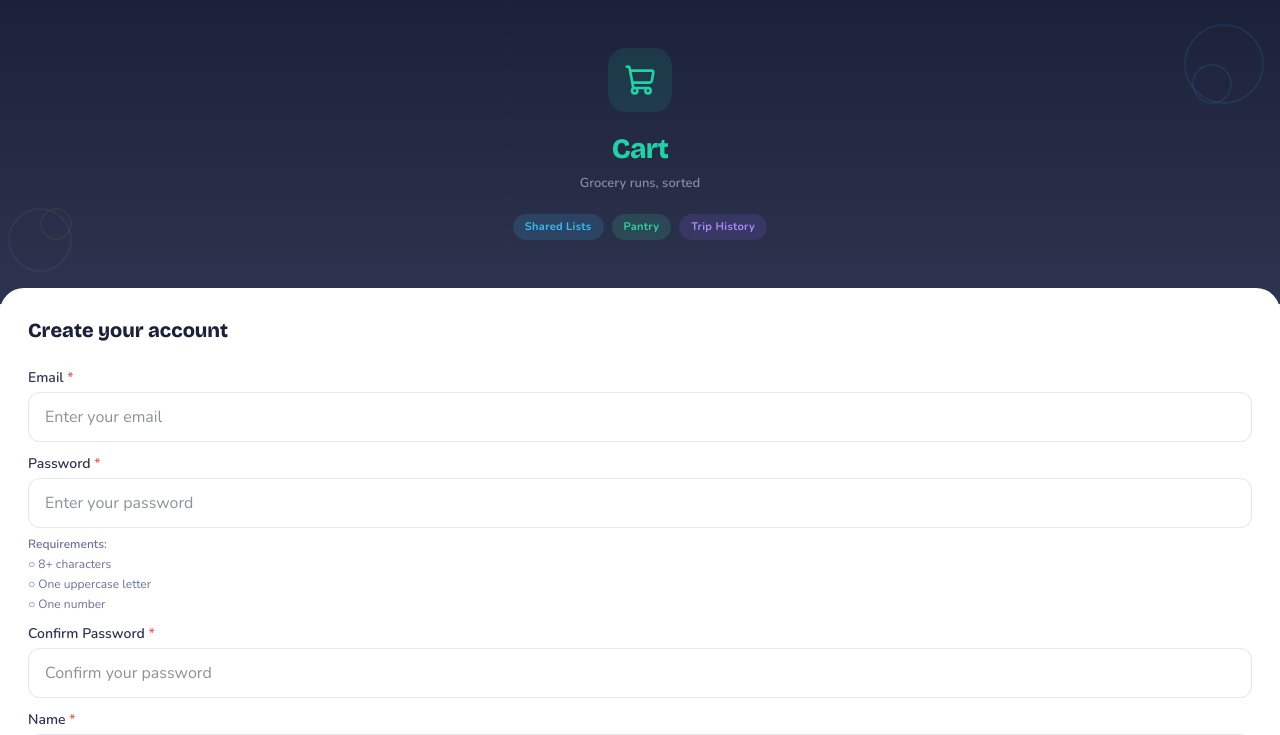
RegisterPage › validates password has uppercase
In the password field labelled "Password": x=640, y=503 28,478 -> 1252,528, type "lowercase123"
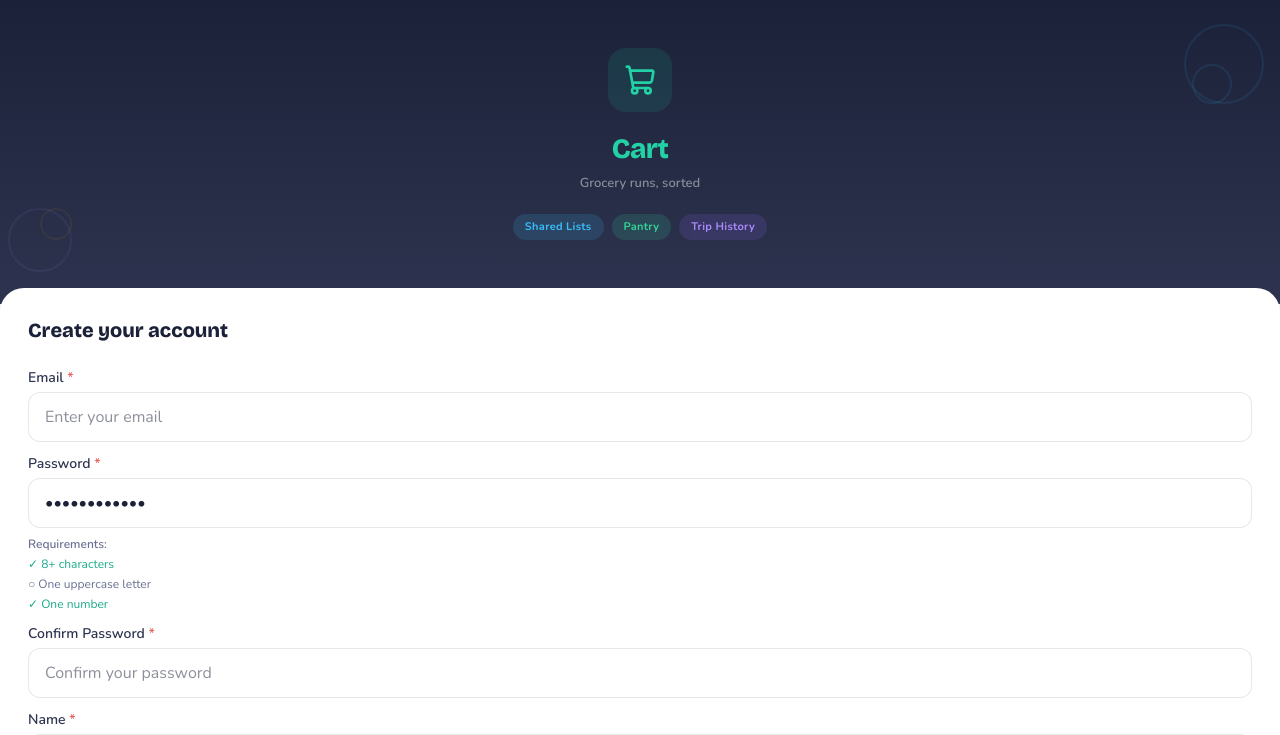
Leave the password field labelled "Password", box 28,478 -> 1252,528
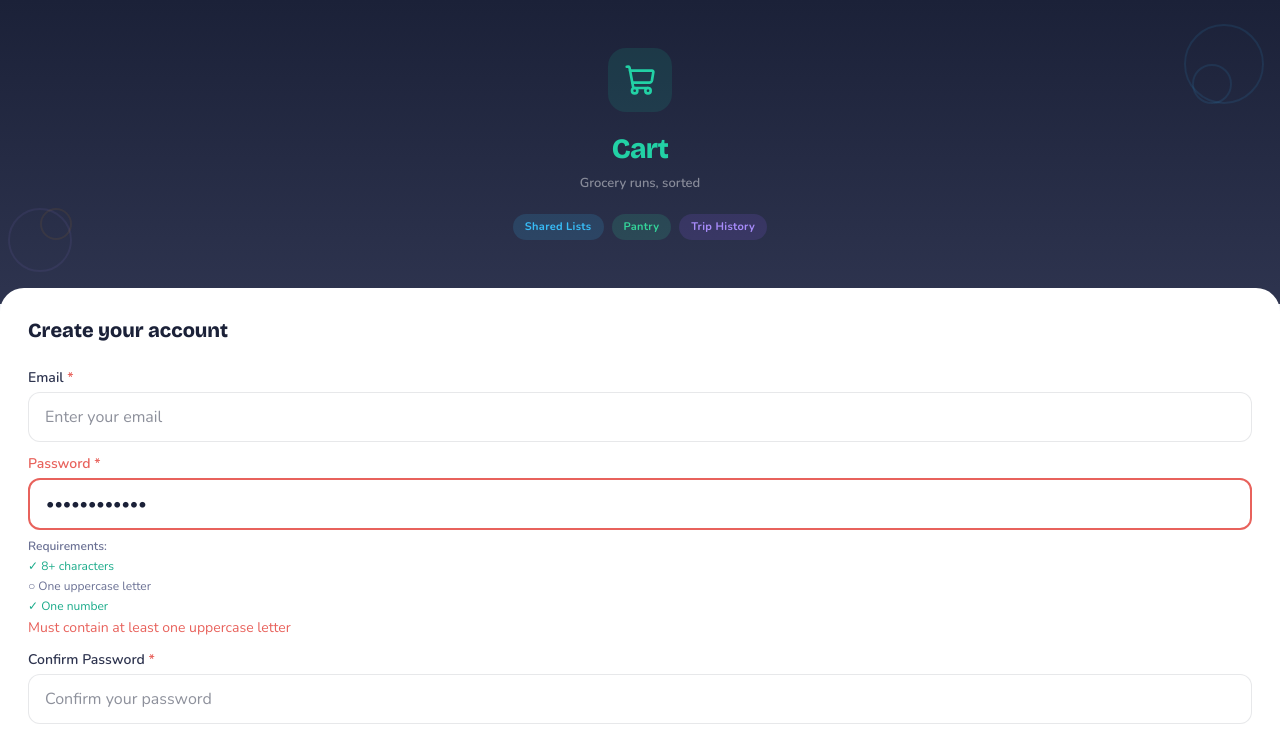
Expected: the text "Must contain at least one uppercase letter" is shown, 28,618 -> 291,637
